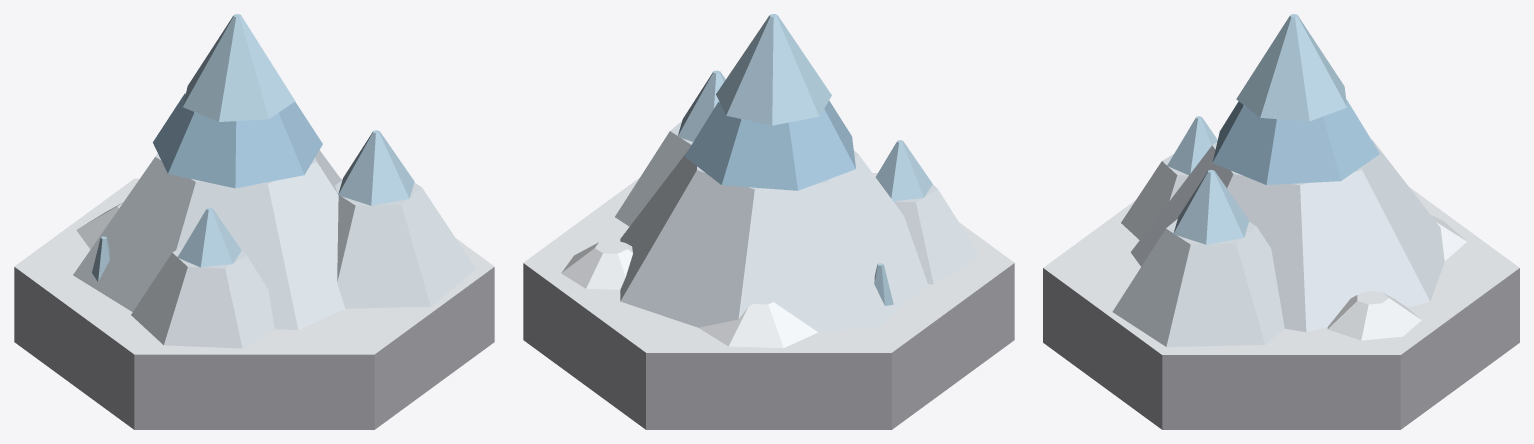
Rendered from ice-mountain.glb.
The picture shows the model from 3 angles, left to right: view 1: azimuth 30°, elevation 25°; view 2: azimuth 150°, elevation 25°; view 3: azimuth 270°, elevation 25°; orthographic projection. The views are drawn at different scales.
Visible parts, largest first — view 1: base, main_slope, side1_slope, main_band, side2_slope, main_peak, side1_peak, side2_peak, mound_1, shard; view 2: base, main_slope, main_band, main_peak, side2_slope, mound_1, mound_2, side1_slope, side2_peak, side1_peak, shard; view 3: base, main_slope, side1_slope, main_band, main_peak, side1_peak, mound_2, side2_slope, side2_peak, mound_1.
Part boxes in pixels (bbox=[...]): base: bbox=[14, 178, 494, 429]; main_slope: bbox=[73, 150, 345, 329]; side1_slope: bbox=[335, 180, 475, 308]; main_band: bbox=[153, 93, 322, 188]; side2_slope: bbox=[131, 245, 274, 348]; main_peak: bbox=[183, 14, 294, 121]; side1_peak: bbox=[338, 130, 414, 205]; side2_peak: bbox=[177, 207, 241, 267]; mound_1: bbox=[76, 203, 122, 249]; shard: bbox=[92, 236, 109, 281]; base: bbox=[523, 173, 1014, 429]; main_slope: bbox=[620, 150, 927, 332]; main_band: bbox=[684, 100, 855, 190]; main_peak: bbox=[716, 14, 831, 125]; side2_slope: bbox=[893, 184, 980, 284]; mound_1: bbox=[698, 302, 817, 348]; mound_2: bbox=[561, 240, 632, 289]; side1_slope: bbox=[615, 121, 692, 226]; side2_peak: bbox=[875, 140, 932, 201]; side1_peak: bbox=[677, 70, 725, 141]; shard: bbox=[874, 263, 893, 305]; base: bbox=[1043, 187, 1519, 429]; main_slope: bbox=[1130, 140, 1444, 332]; side1_slope: bbox=[1112, 219, 1284, 346]; main_band: bbox=[1212, 99, 1379, 184]; main_peak: bbox=[1236, 14, 1346, 121]; side1_peak: bbox=[1173, 169, 1249, 244]; mound_2: bbox=[1327, 291, 1421, 340]; side2_slope: bbox=[1121, 154, 1188, 239]; side2_peak: bbox=[1167, 116, 1217, 175]; mound_1: bbox=[1431, 215, 1466, 260].
Bounding box in the file's own units: 1 × 0.86 × 1.15.
